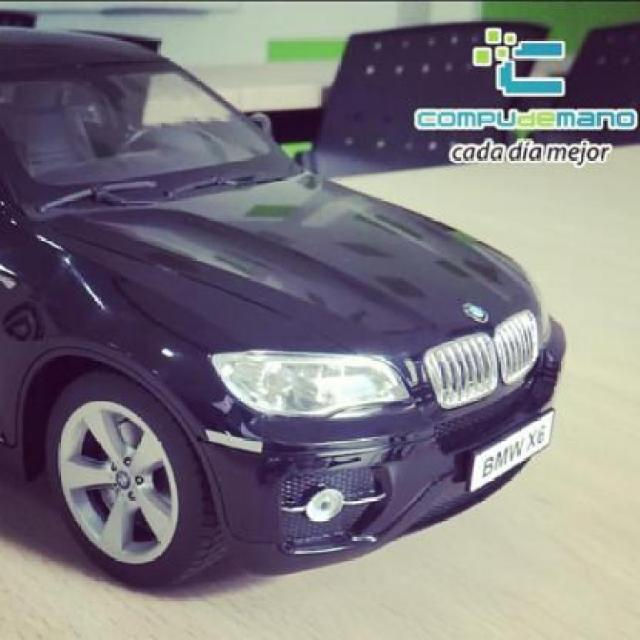License-Plates: (468, 406, 556, 494)
